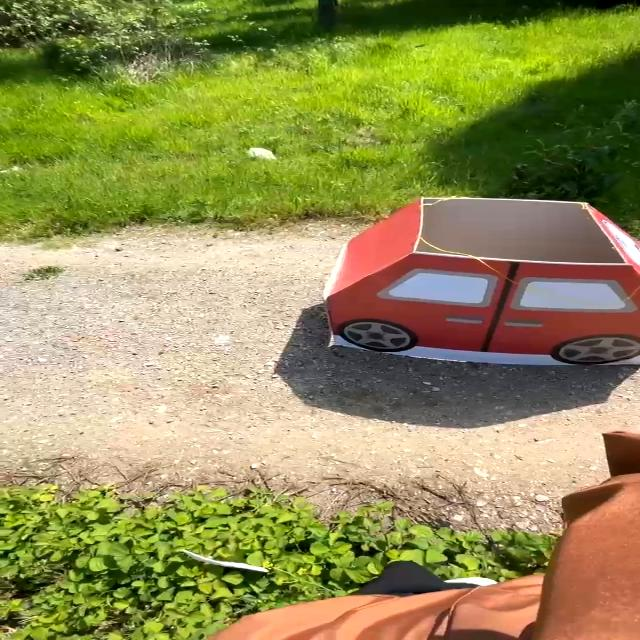red_car: (288, 182, 640, 395)
